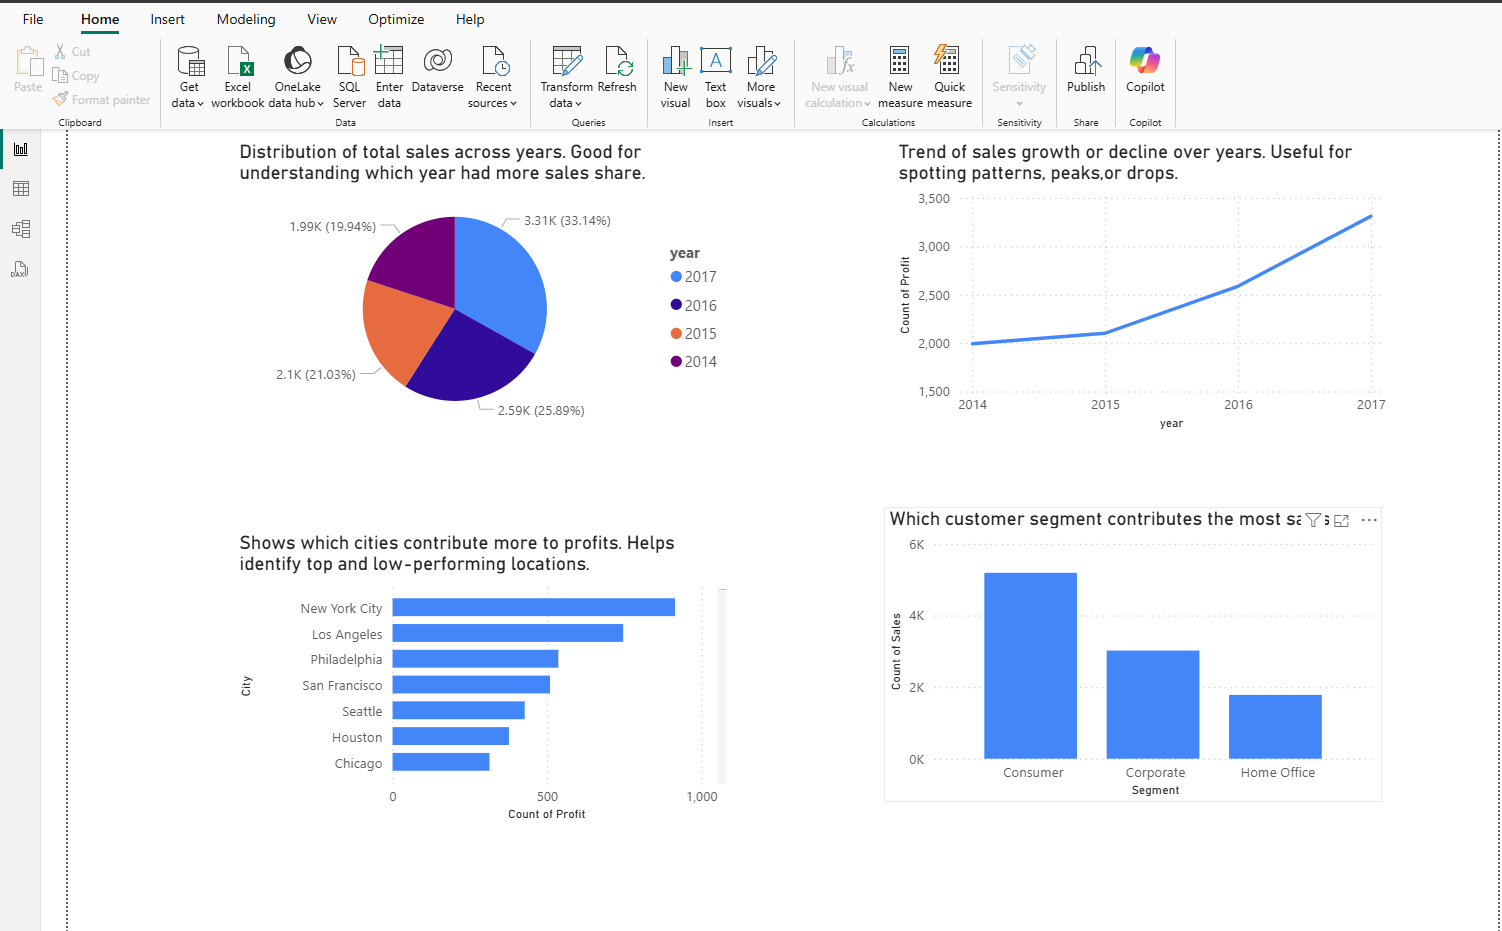

The dashboard page shown, as its layout file describes it:
{"tool":"powerbi","page":{"name":"Page 1","canvas":[1280,720],"ordinal":0},"visuals":[{"type":"pieChart","title":"Distribution of total sales across years. Good for understanding which year had more sales share.","fields":{"Category":["superstore.year"],"Y":["CountNonNull(superstore.Sales)"]},"box":[148.5,9.6,446.5,264.4],"z":0},{"type":"lineChart","title":"Trend of sales growth or decline over years. Useful for spotting patterns, peaks,or drops.","fields":{"Category":["superstore.year"],"Y":["CountNonNull(superstore.Profit)"]},"box":[738.8,9.9,446,264.2],"z":1000},{"type":"barChart","title":"Shows which cities contribute more to profits. Helps identify top and low-performing locations.","fields":{"Category":["superstore.City"],"Y":["CountNonNull(superstore.Profit)"]},"box":[148.5,360.2,446.5,264.4],"z":2000},{"type":"clusteredColumnChart","title":"Which customer segment contributes the most sales.","fields":{"Y":["CountNonNull(superstore.Sales)"],"Category":["superstore.Segment"]},"box":[731,338.2,445.5,264.4],"z":3000}]}

Visuals, with their boxes on the page's 1280x720 design canvas (x1, y1, x2, y2). These are canvas units, not pixel positions in the 1502x931 screenshot, which may show the page scaled, cropped or inside an application window:
"Distribution of total sales across years. Good for understanding which year had more sales share." pieChart: bbox=[148, 10, 595, 274]
"Trend of sales growth or decline over years. Useful for spotting patterns, peaks,or drops." lineChart: bbox=[739, 10, 1185, 274]
"Shows which cities contribute more to profits. Helps identify top and low-performing locations." barChart: bbox=[148, 360, 595, 625]
"Which customer segment contributes the most sales." clusteredColumnChart: bbox=[731, 338, 1176, 603]
